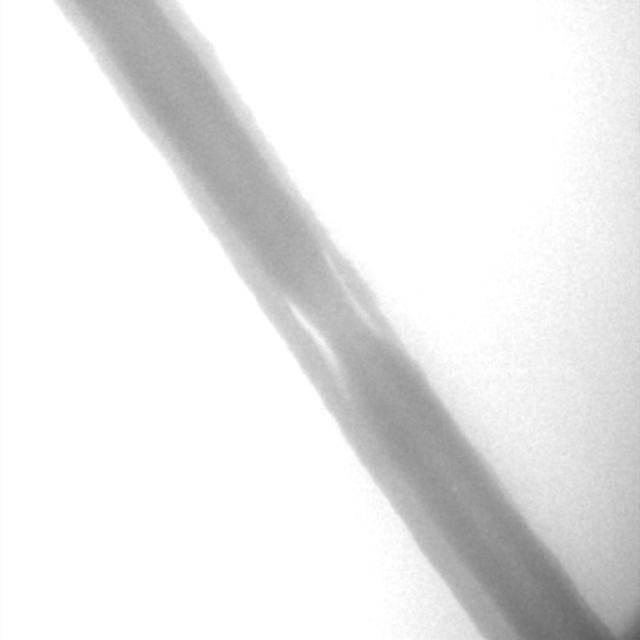unfused: (288, 253, 374, 371)
